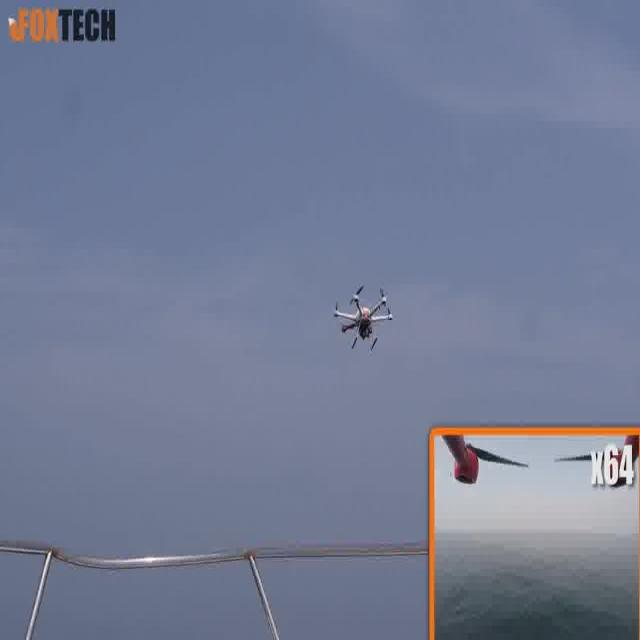drone: (333, 281, 394, 355)
